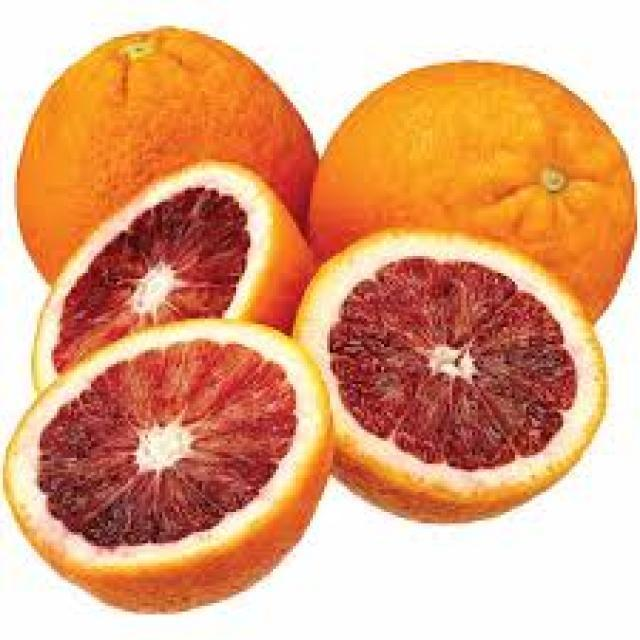non-mango: (2, 316, 334, 614), (292, 226, 607, 523), (308, 58, 636, 324), (14, 24, 319, 287), (31, 161, 315, 394)
